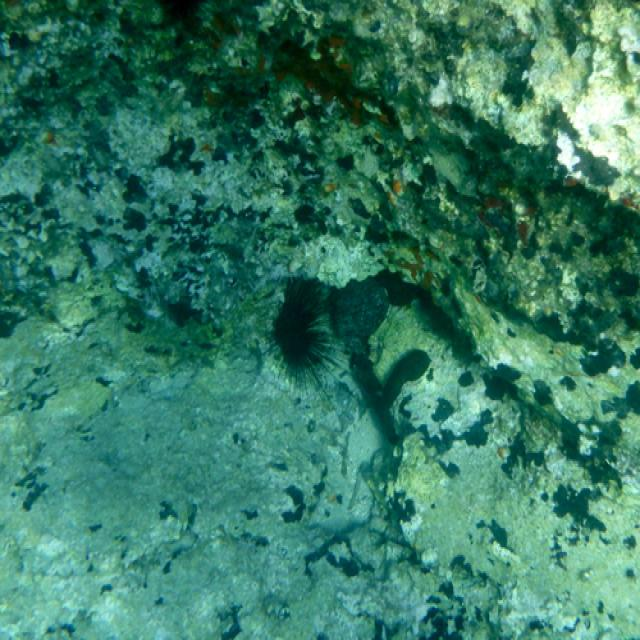Urchin: (265, 267, 355, 403)
